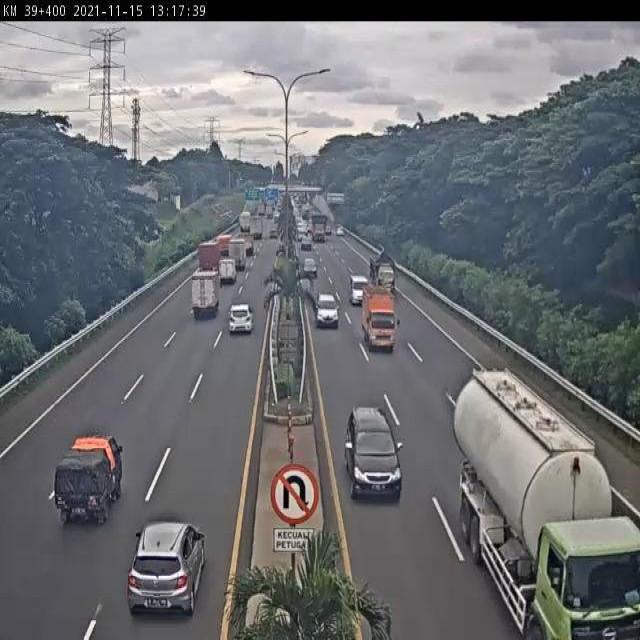car: (125, 520, 205, 615), (54, 428, 125, 523), (348, 407, 405, 501), (227, 303, 256, 336), (314, 292, 341, 327), (350, 273, 371, 307)
truck-l-: (455, 366, 640, 640)
truck-m-: (197, 239, 222, 273), (226, 236, 246, 271)
truck-s-: (362, 288, 397, 352), (367, 245, 398, 298), (193, 269, 221, 319), (219, 257, 237, 284), (301, 254, 319, 278)
